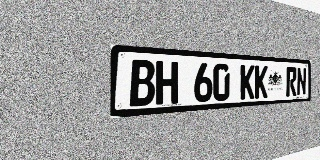0: (213, 63, 230, 101)
6: (194, 62, 213, 102)
B: (130, 59, 155, 107)
H: (156, 61, 178, 105)
K: (240, 65, 255, 99), (255, 65, 268, 99)
N: (297, 67, 306, 96)
R: (286, 67, 297, 97)
